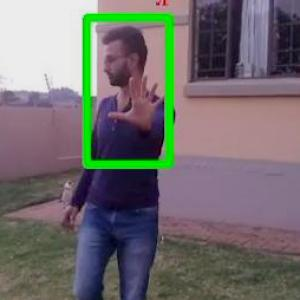follow_hand: (106, 65, 172, 132)
